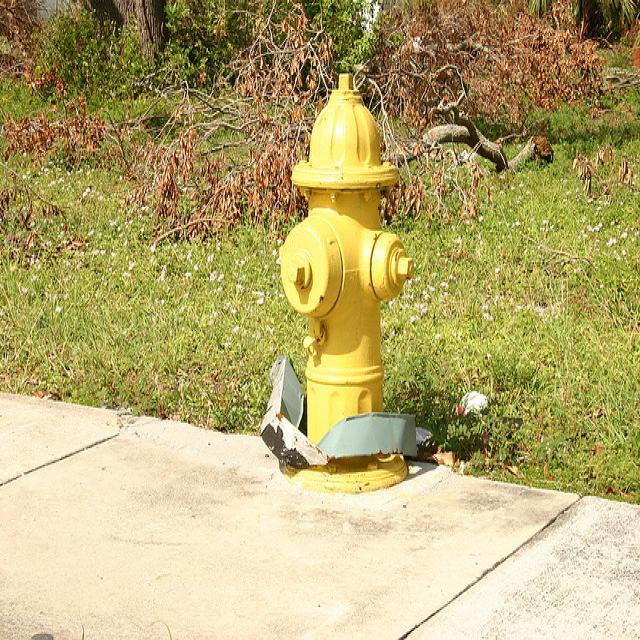fire_hydrant: (280, 70, 416, 452)
